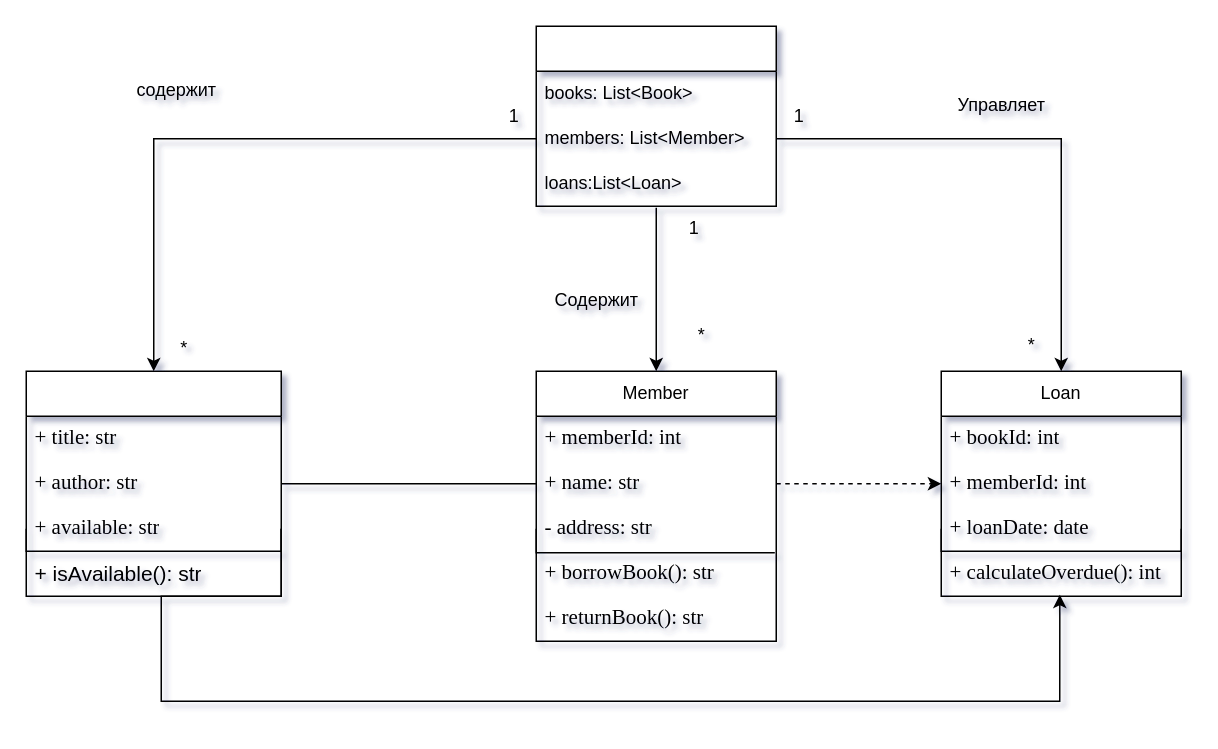
Some shapes in this 1218 by 749 pixel diagram are drawn without their labels. The shapes that lost their labels are listed below. From the top down, each one's box as (x1, y1, x2, y2) in pixels, then its label:
(535, 25, 776, 206): LIbrary
(25, 370, 281, 596): Book
